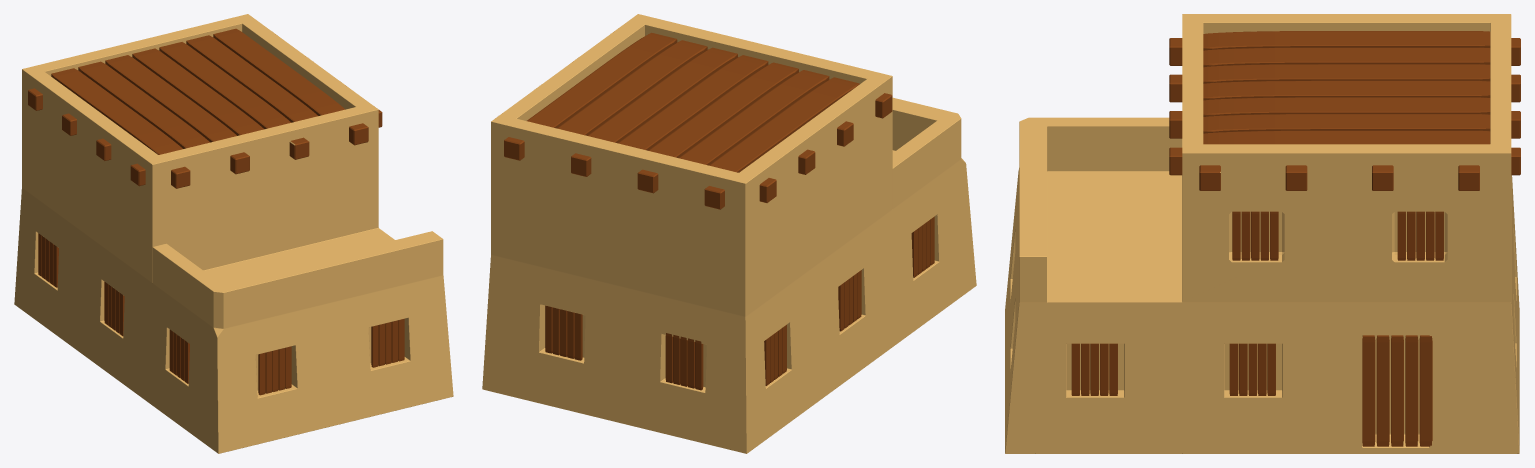
File: DesertHouse.fbx
3 views of the same model, side by side, from view 1: azimuth 30°, elevation 25°; view 2: azimuth 150°, elevation 25°; view 3: azimuth 270°, elevation 25° (orthographic). The views are drawn at different scales.
Visible parts, largest first — view 1: Cube; view 2: Cube; view 3: Cube.
Boxes of the visible parts, <box> form: Cube: <box>14,14,453,453</box>; Cube: <box>482,14,976,453</box>; Cube: <box>1005,14,1520,453</box>.
Size of the model in its own units: 216 by 200 by 313.
